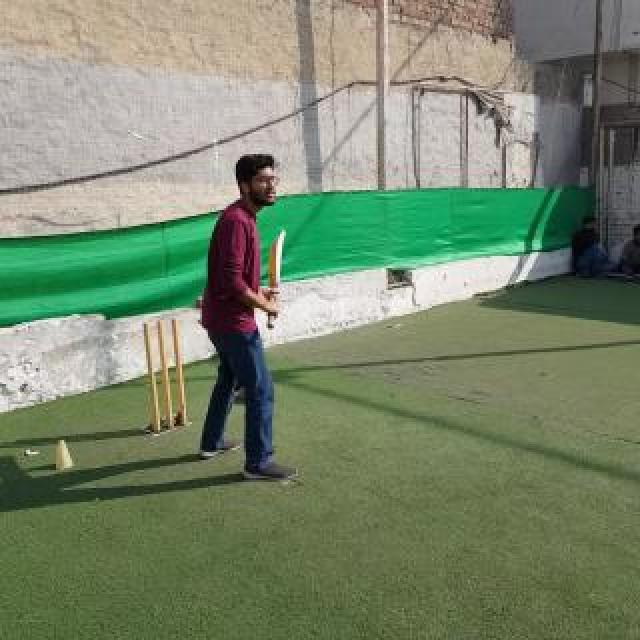bat: (266, 230, 286, 330)
